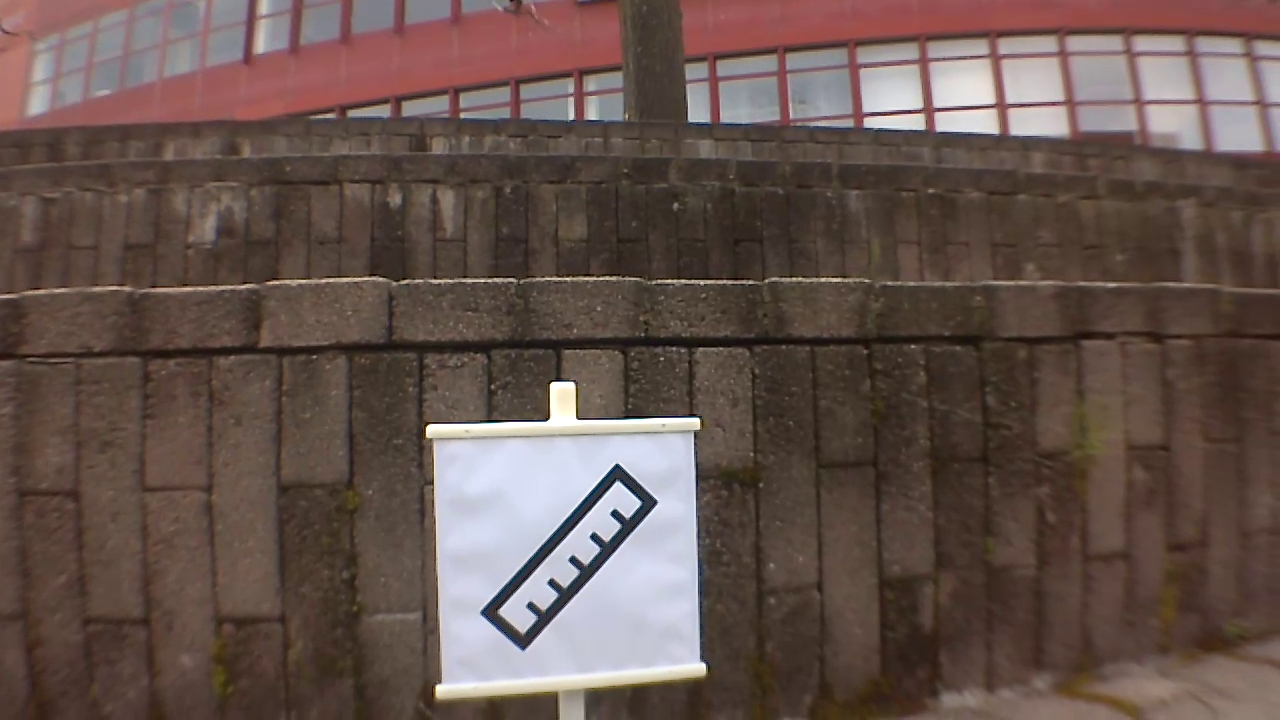ruler: (473, 459, 664, 650)
